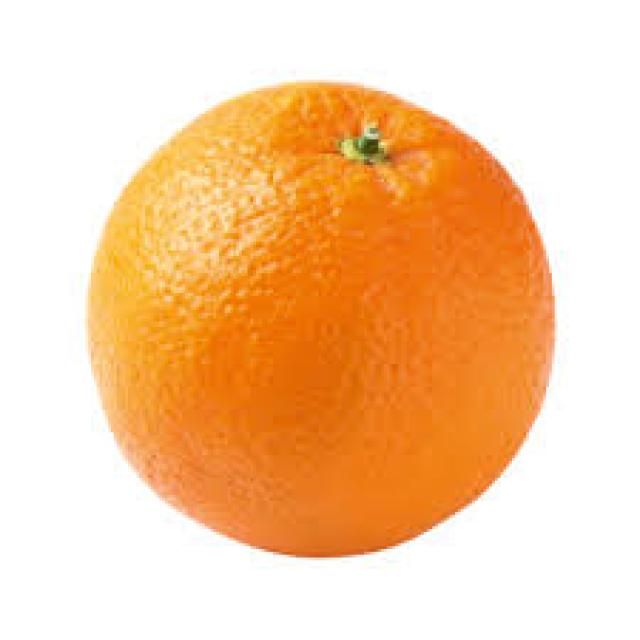orange: (85, 78, 560, 560)
